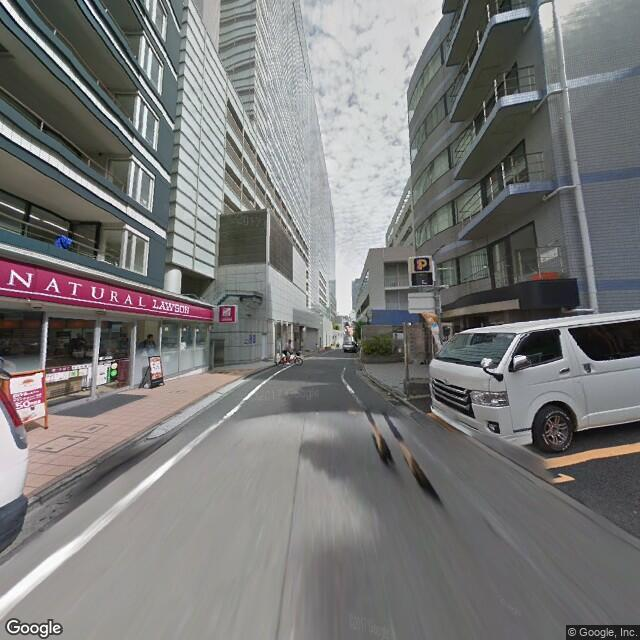lawson: (1, 258, 214, 329), (218, 301, 237, 324)
